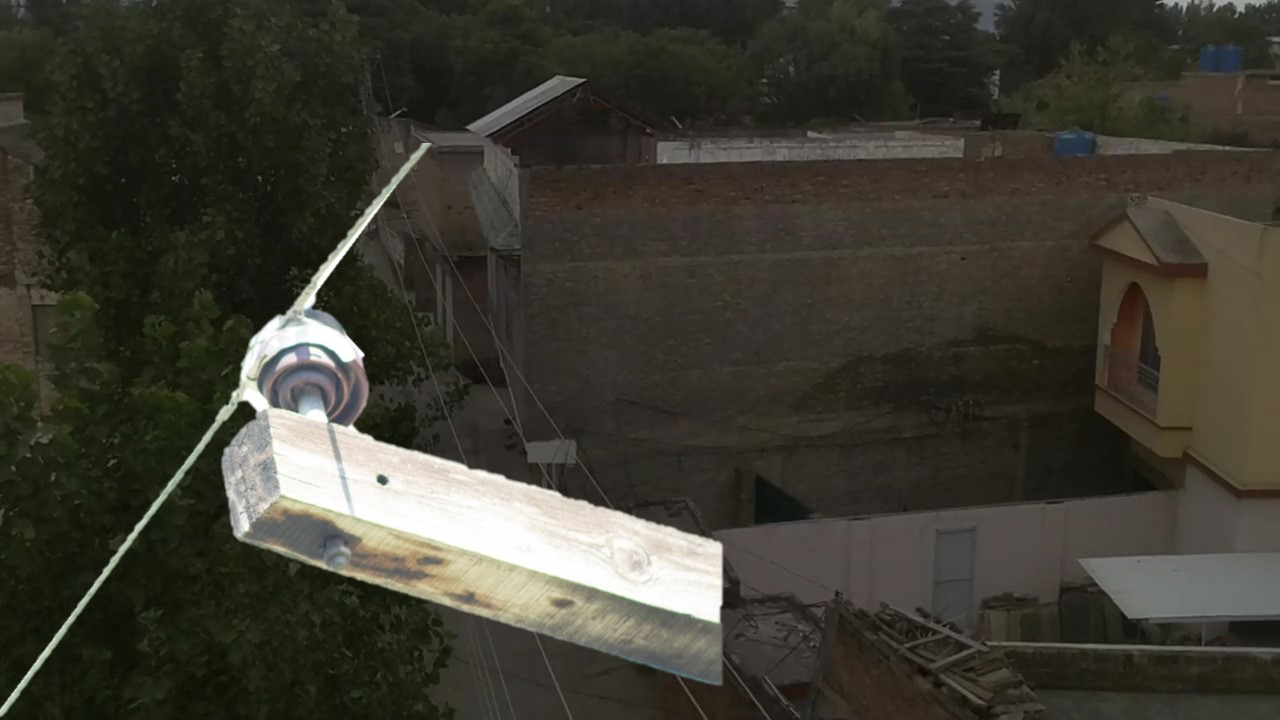defect_pin: (237, 301, 374, 429)
